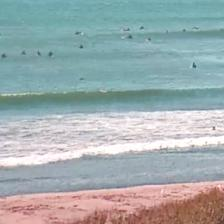surfer: (47, 50, 54, 58), (124, 34, 134, 39), (191, 62, 198, 69), (74, 30, 82, 36), (36, 50, 42, 57), (1, 53, 8, 59), (123, 27, 131, 32), (78, 77, 86, 82), (79, 44, 85, 50), (193, 26, 200, 31), (20, 51, 27, 56), (139, 26, 146, 30), (211, 127, 217, 131), (181, 28, 187, 32), (165, 30, 171, 34), (146, 38, 152, 42), (0, 31, 3, 38)
